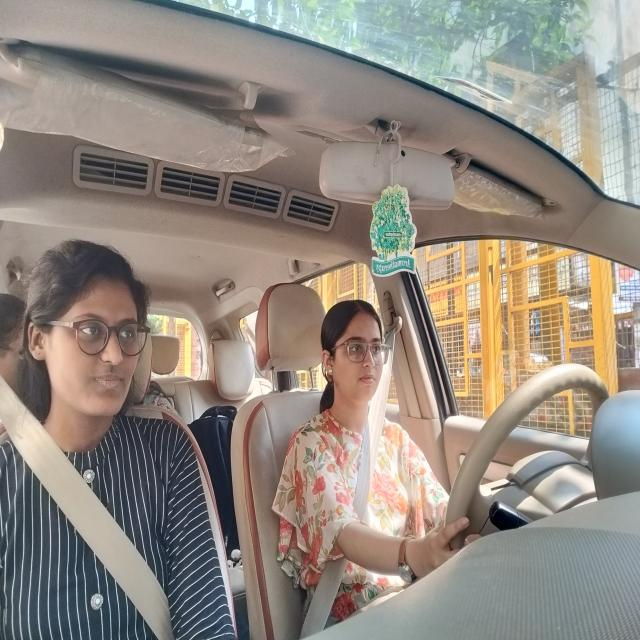person: (38, 260, 154, 412), (319, 305, 387, 398), (0, 316, 26, 388)
